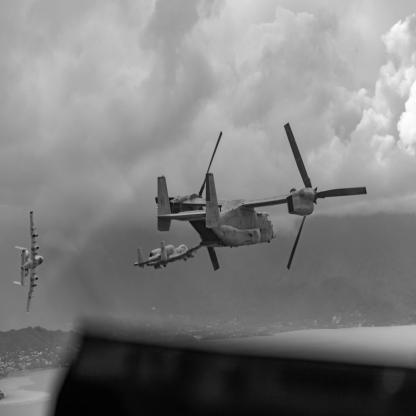A10: (14, 212, 46, 315), (135, 242, 204, 271)
V22: (156, 123, 368, 272)
